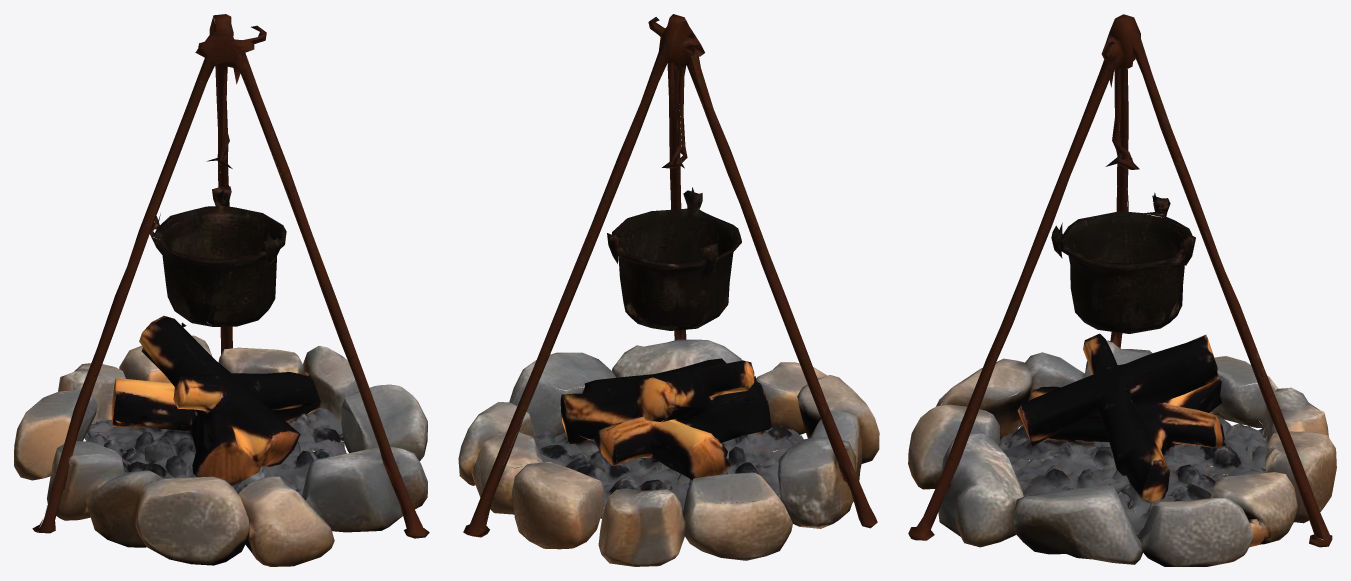
Rendered from fogon.glb.
The picture shows the model from 3 angles, left to right: view 1: azimuth 30°, elevation 25°; view 2: azimuth 150°, elevation 25°; view 3: azimuth 270°, elevation 25°; orthographic projection.
Parts seen in each view (by area): view 1: geometry_0; view 2: geometry_0; view 3: geometry_0.
Part boxes in pixels (x1,y1,x2,y2): geometry_0: (14,14,429,566); geometry_0: (458,14,879,566); geometry_0: (908,14,1336,566).
Bounding box in the file's own units: 0.9 × 1.1 × 0.9.
Materials: 1 (1 with a texture image).
